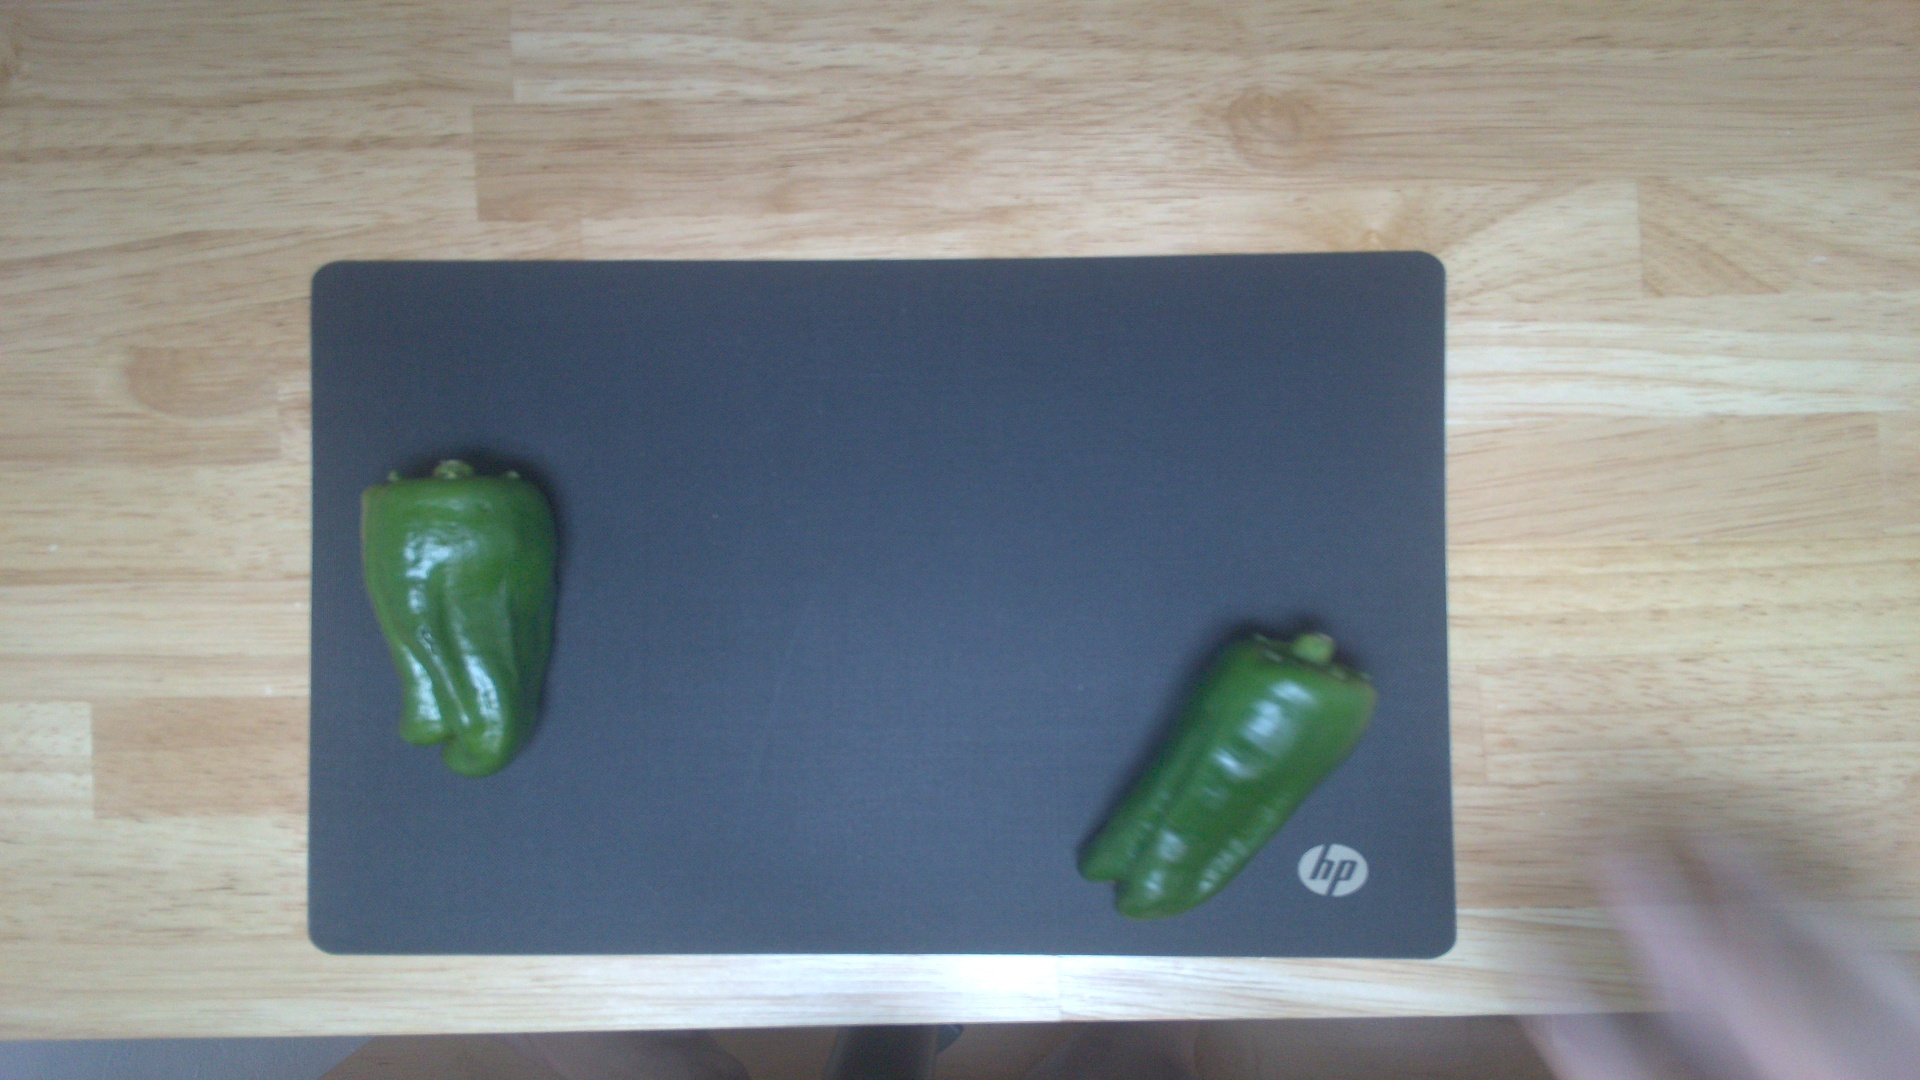Piman: (1060, 622, 1385, 922), (353, 458, 562, 775)
